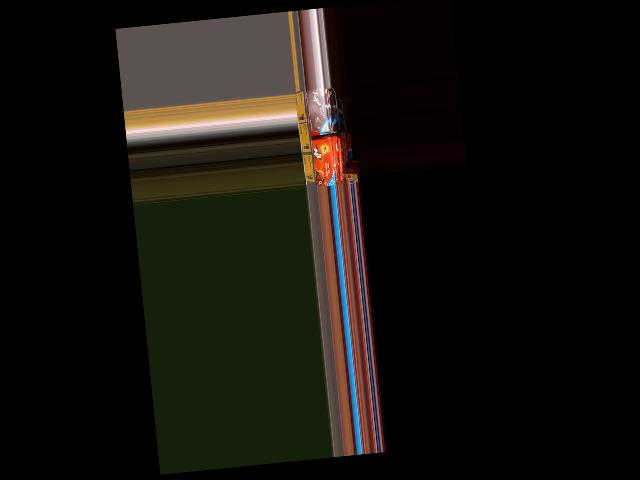chocolate: (301, 87, 331, 132)
